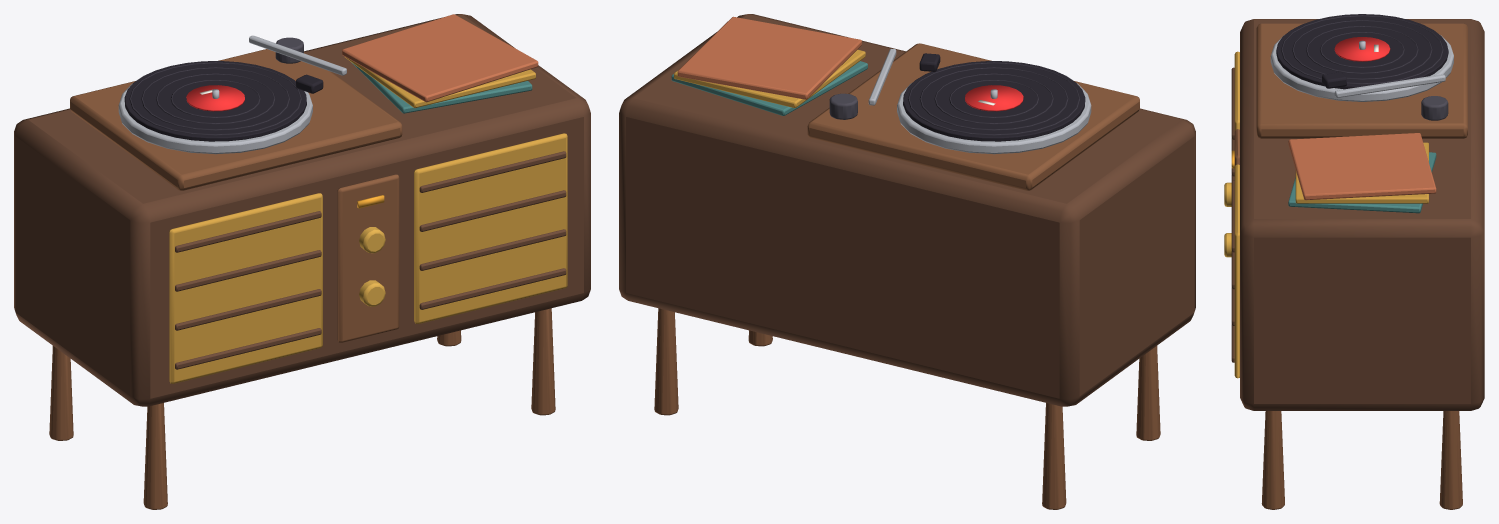
The model's file is boombox_l3.glb.
The picture shows the model from 3 angles, left to right: view 1: azimuth 30°, elevation 25°; view 2: azimuth 150°, elevation 25°; view 3: azimuth 270°, elevation 25°; orthographic projection. The views are drawn at different scales.
Visible parts, largest first — view 1: boombox_l3, boombox_record; view 2: boombox_l3, boombox_record; view 3: boombox_l3, boombox_record.
Boxes of the visible parts, bbox=[...] form: boombox_l3: bbox=[14, 14, 590, 509]; boombox_record: bbox=[124, 61, 306, 141]; boombox_l3: bbox=[619, 14, 1195, 509]; boombox_record: bbox=[903, 61, 1085, 141]; boombox_l3: bbox=[1224, 19, 1484, 509]; boombox_record: bbox=[1276, 14, 1448, 89].
Size of the model in its own units: 0.9 by 0.671 by 0.4685.
